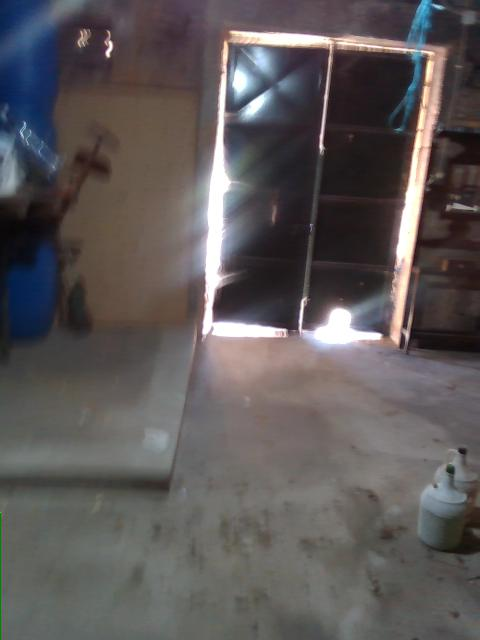door: (199, 29, 448, 344)
